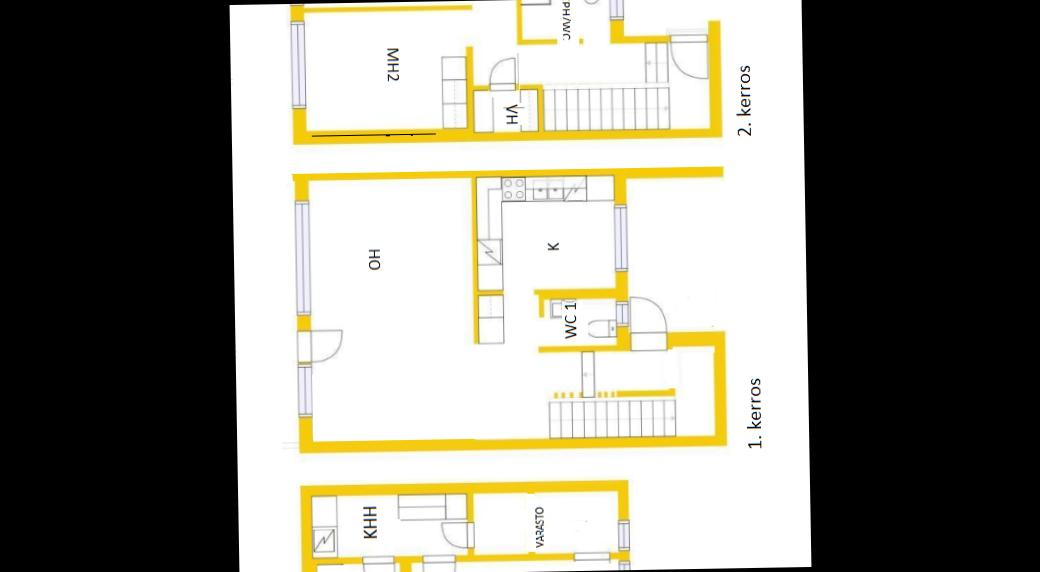door: (666, 25, 710, 82), (627, 294, 669, 351), (296, 326, 347, 366), (484, 53, 518, 94), (438, 519, 476, 551), (359, 550, 399, 572), (418, 551, 459, 572)
window: (290, 198, 314, 320), (286, 15, 312, 112), (608, 199, 634, 276), (292, 361, 318, 426), (615, 510, 637, 555), (605, 0, 627, 30), (612, 298, 632, 330), (615, 556, 633, 570)
